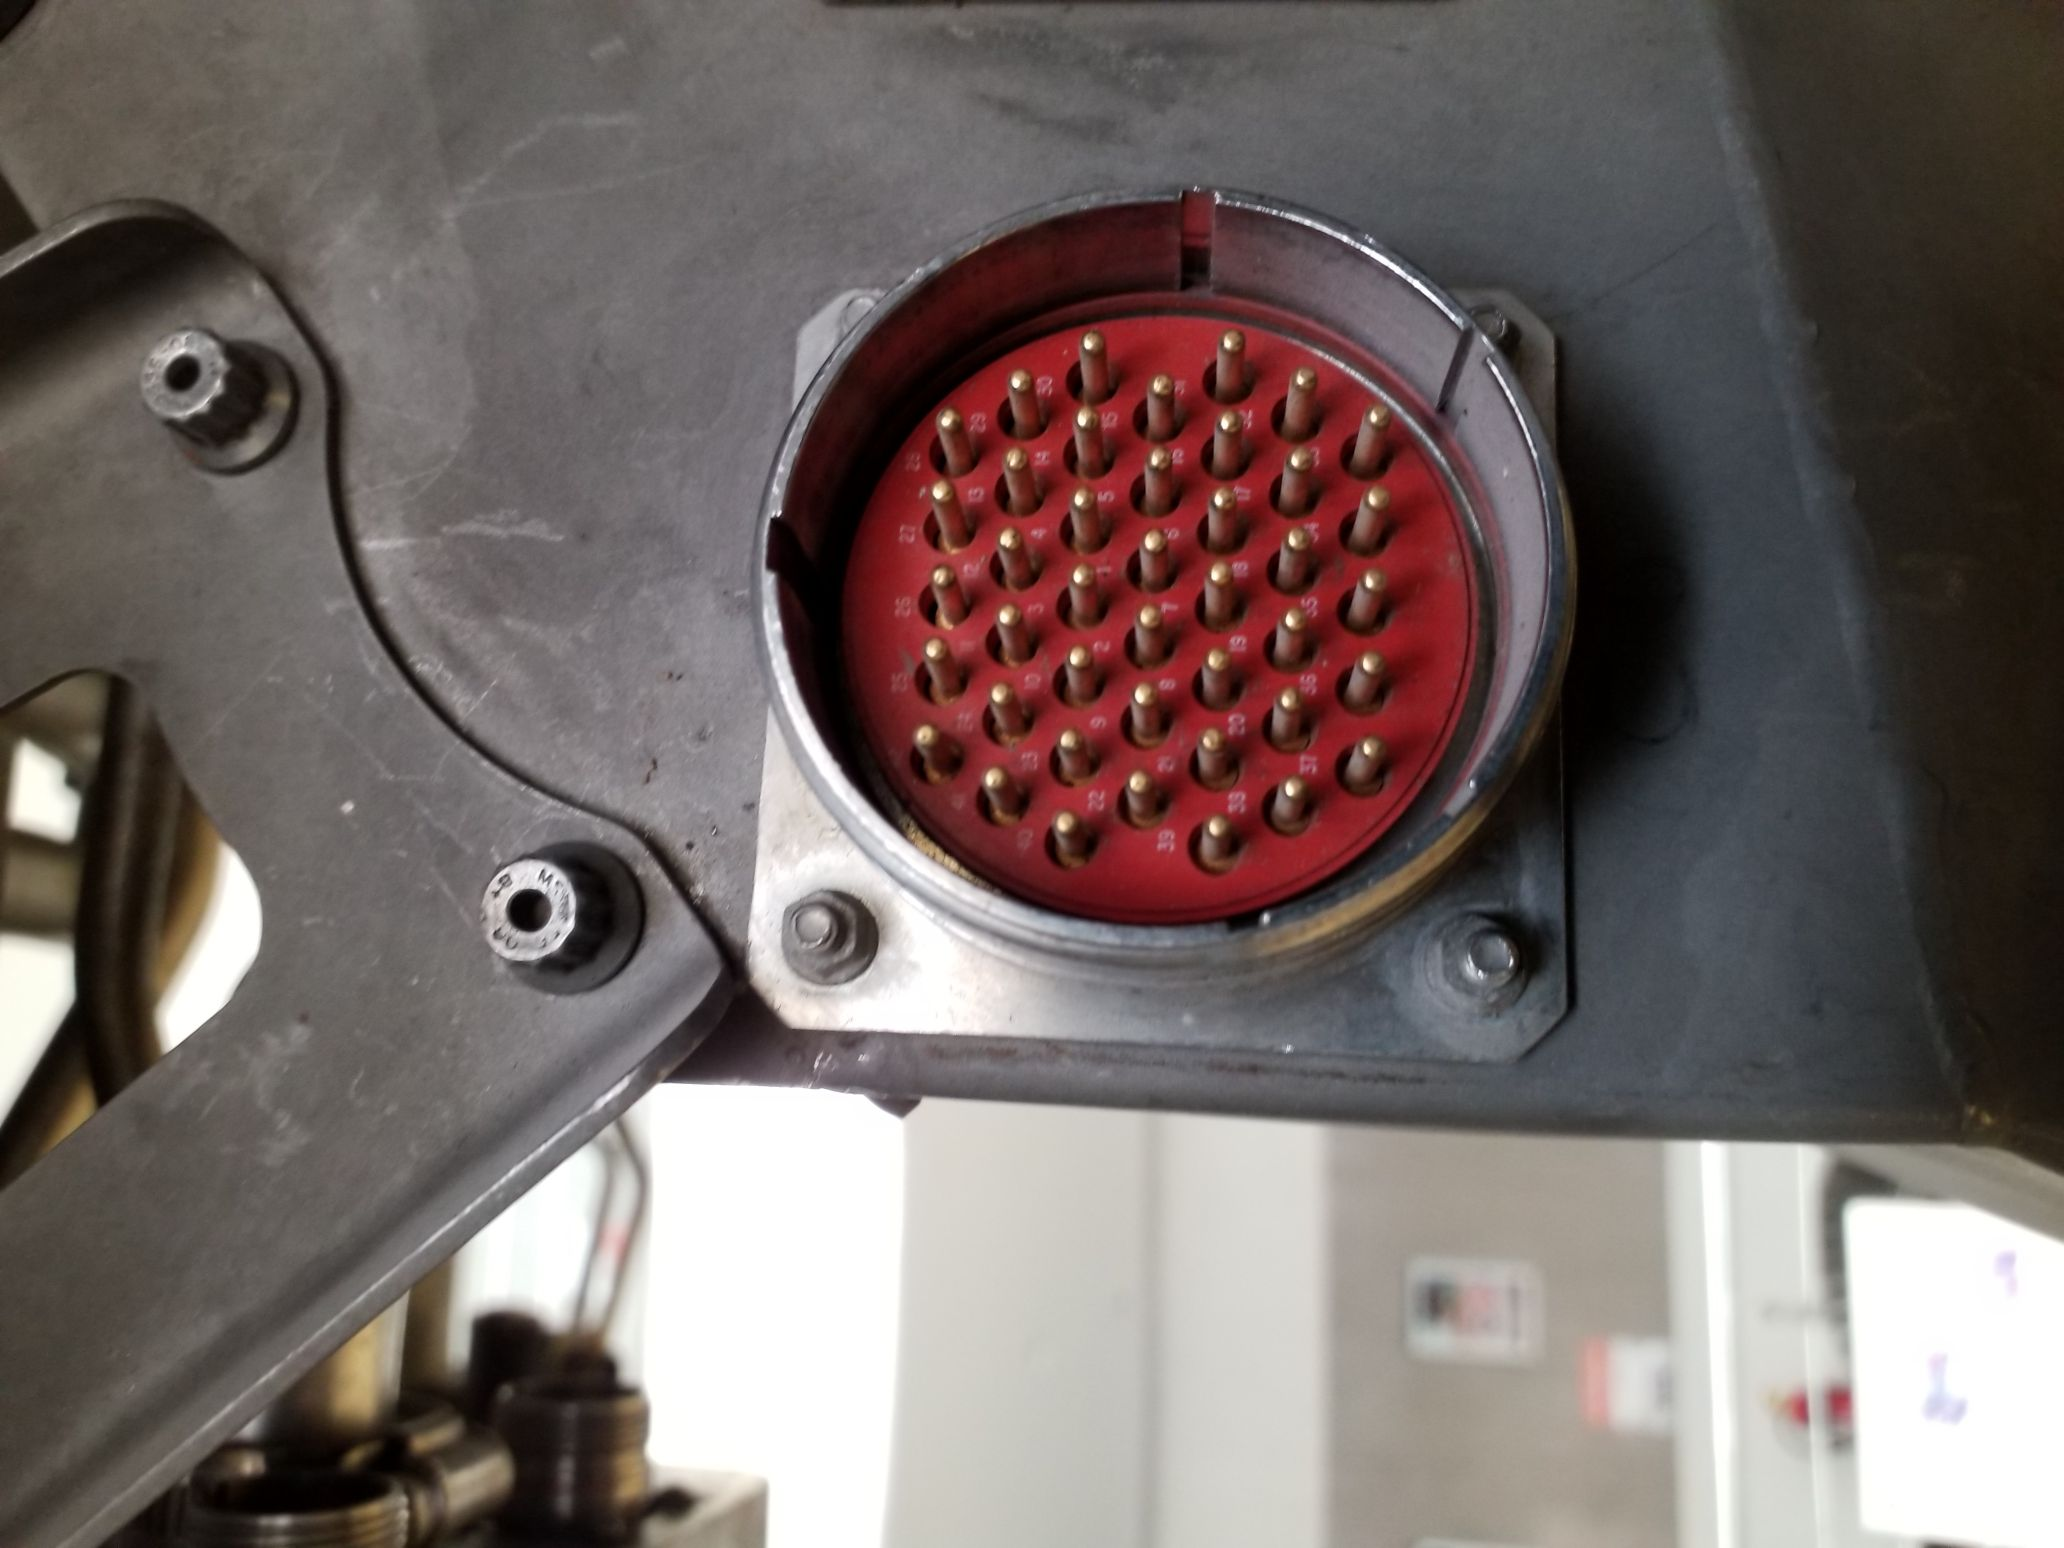outlet: (751, 171, 1593, 985)
